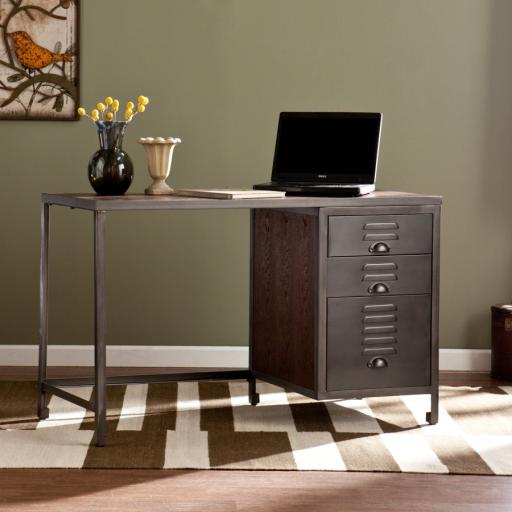desk: (38, 191, 442, 446)
